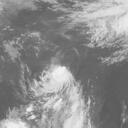cyclone: (35, 66, 78, 98)
